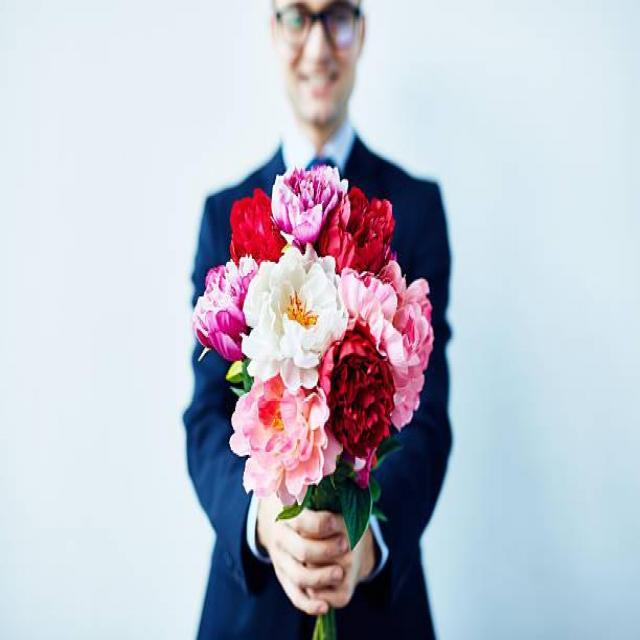organic waste: (222, 354, 327, 499), (244, 250, 354, 366), (357, 269, 438, 413), (301, 186, 400, 286), (260, 164, 356, 255), (326, 338, 393, 459), (188, 254, 260, 356), (226, 176, 284, 290)
